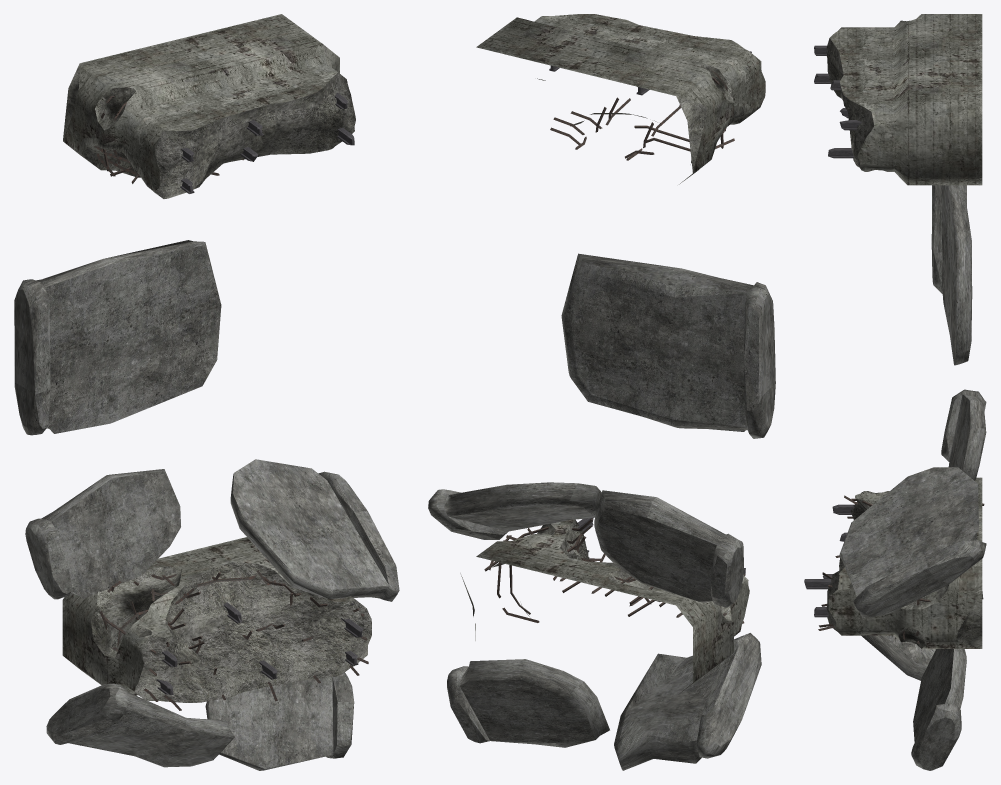
File: gully_bridge_concrete03.glb
3 views of the same model, side by side, from view 1: azimuth 30°, elevation 25°; view 2: azimuth 150°, elevation 25°; view 3: azimuth 270°, elevation 25° (orthographic). The views are drawn at different scales.
Size of the model in its own units: 318 by 662 by 166.
Materials: 6 (6 with a texture image).
